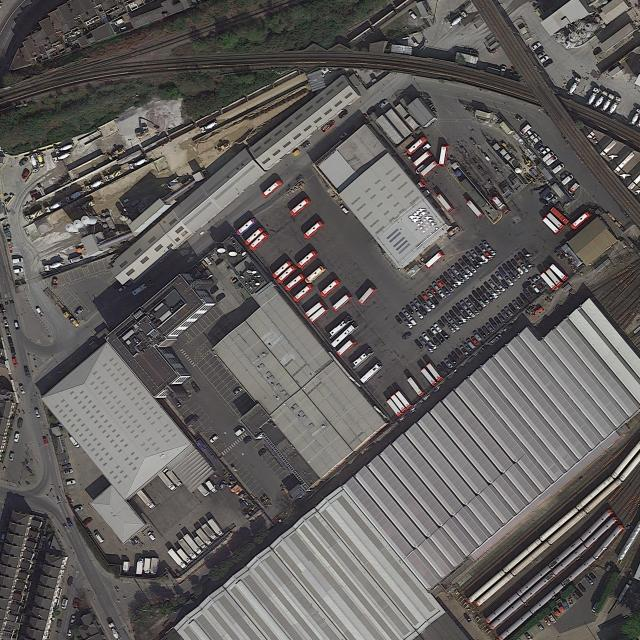large-vehicle: (43, 287, 72, 319), (330, 321, 359, 349), (325, 314, 354, 340), (349, 346, 375, 371), (359, 361, 384, 385), (302, 218, 326, 241), (271, 258, 294, 281), (243, 225, 267, 247), (289, 196, 313, 218), (296, 248, 320, 270), (405, 135, 429, 157), (569, 209, 593, 231), (319, 277, 342, 299), (261, 178, 284, 200), (177, 538, 199, 561), (183, 532, 204, 556), (357, 284, 378, 307), (292, 283, 315, 304), (235, 216, 258, 237), (304, 264, 327, 285), (283, 272, 306, 293), (331, 292, 353, 313), (335, 337, 357, 358), (248, 231, 270, 252), (276, 264, 298, 285), (167, 548, 188, 570), (549, 206, 571, 227), (549, 262, 570, 283), (136, 488, 156, 510), (492, 194, 512, 216), (466, 198, 486, 220), (407, 375, 426, 398), (424, 250, 445, 270), (412, 149, 433, 169), (544, 267, 564, 288), (541, 216, 562, 236), (308, 305, 330, 324), (419, 366, 438, 388), (425, 361, 444, 383), (304, 300, 326, 319), (436, 192, 455, 214), (539, 272, 559, 292), (394, 389, 413, 410), (158, 471, 177, 492), (419, 159, 439, 178), (195, 527, 214, 547), (448, 10, 468, 29), (386, 397, 404, 418), (207, 517, 225, 538), (592, 89, 610, 110), (165, 469, 184, 488), (546, 212, 565, 231), (390, 393, 408, 413), (201, 522, 219, 542), (599, 93, 616, 114), (566, 75, 582, 97), (128, 156, 150, 171), (606, 96, 622, 116), (585, 86, 600, 107), (128, 283, 147, 299), (107, 621, 123, 640), (199, 120, 219, 135), (104, 168, 124, 183), (85, 178, 105, 193), (65, 189, 85, 204), (44, 200, 65, 214), (176, 548, 193, 565), (43, 259, 65, 272), (25, 208, 45, 222), (76, 199, 96, 213), (54, 142, 75, 155), (52, 151, 72, 164), (29, 153, 40, 174), (439, 144, 449, 167), (193, 535, 208, 550), (488, 333, 503, 348), (35, 151, 46, 169), (205, 480, 218, 495), (68, 435, 81, 449), (150, 558, 159, 577), (93, 530, 105, 544), (68, 255, 84, 264), (68, 317, 80, 329), (166, 178, 179, 189), (136, 558, 144, 575), (143, 558, 151, 575), (584, 575, 595, 586), (463, 612, 473, 624), (574, 588, 584, 599), (577, 582, 587, 593), (147, 531, 156, 542), (536, 621, 545, 632), (123, 561, 130, 574), (61, 598, 68, 610), (589, 572, 597, 581)
small-vehicle: (185, 415, 200, 429), (527, 135, 542, 149), (551, 162, 565, 175), (545, 154, 559, 167), (541, 150, 555, 163), (539, 186, 552, 199), (567, 182, 580, 195), (561, 173, 574, 186), (519, 123, 532, 136), (525, 132, 538, 144), (472, 330, 484, 343), (337, 108, 349, 120), (128, 198, 141, 209), (538, 147, 551, 158), (443, 356, 454, 369), (190, 382, 201, 394), (442, 271, 453, 283), (415, 164, 427, 175), (171, 396, 182, 408), (82, 516, 94, 527), (440, 329, 451, 341), (461, 310, 472, 322), (465, 251, 476, 263), (521, 248, 532, 260), (450, 350, 461, 362), (466, 338, 477, 350), (460, 299, 470, 312), (339, 204, 350, 215), (378, 98, 389, 109), (450, 265, 461, 276), (422, 302, 433, 313), (421, 142, 432, 153), (235, 426, 246, 437), (500, 309, 511, 320), (511, 300, 522, 311), (522, 289, 533, 300), (464, 267, 475, 278), (522, 129, 533, 140), (439, 315, 450, 326), (463, 297, 474, 308), (461, 255, 472, 266), (504, 276, 515, 287), (591, 602, 601, 614), (337, 131, 349, 141), (445, 282, 455, 294), (449, 279, 459, 291), (415, 309, 425, 321), (458, 258, 468, 270), (519, 292, 529, 304), (549, 160, 561, 170), (542, 58, 554, 68), (488, 317, 498, 329), (477, 327, 487, 339), (433, 322, 443, 334), (451, 320, 461, 332), (421, 331, 431, 343), (517, 251, 527, 263), (520, 262, 530, 274), (447, 354, 457, 366), (454, 347, 464, 359), (470, 335, 480, 347), (489, 288, 499, 300), (215, 292, 226, 302), (300, 140, 311, 150), (420, 291, 430, 302), (431, 281, 441, 292), (437, 289, 447, 300), (442, 286, 452, 297), (426, 299, 436, 310), (414, 339, 424, 350), (419, 306, 429, 317), (404, 319, 414, 330), (401, 308, 411, 319), (408, 316, 418, 327), (409, 301, 419, 312), (454, 262, 464, 273), (460, 270, 470, 281), (559, 171, 570, 181), (493, 316, 503, 327), (504, 306, 514, 317), (507, 302, 517, 313), (515, 296, 525, 307), (521, 280, 532, 290), (527, 286, 537, 297), (533, 140, 544, 150), (531, 41, 542, 51), (534, 45, 545, 55), (539, 54, 550, 64), (485, 322, 495, 333), (481, 325, 491, 336), (447, 323, 457, 334), (444, 312, 454, 323), (451, 305, 461, 316), (455, 302, 465, 313), (466, 308, 476, 319), (471, 305, 481, 316), (436, 333, 446, 344), (432, 336, 442, 347), (480, 253, 490, 264), (472, 260, 482, 271), (475, 256, 485, 267), (487, 246, 497, 257), (428, 340, 438, 351), (474, 301, 484, 312), (471, 290, 481, 301), (524, 259, 534, 270), (436, 364, 446, 375), (440, 361, 450, 372), (459, 345, 469, 356), (463, 342, 473, 353), (512, 269, 522, 280), (481, 295, 491, 306), (485, 292, 495, 303), (494, 270, 504, 281), (497, 266, 507, 277), (501, 263, 511, 274), (508, 272, 518, 283), (401, 332, 413, 341), (499, 65, 507, 78), (408, 10, 418, 20), (209, 285, 219, 295), (435, 278, 445, 288), (394, 315, 404, 325), (74, 307, 84, 317), (35, 307, 45, 317), (19, 157, 29, 167), (531, 274, 541, 284), (531, 284, 541, 294), (454, 317, 464, 327), (458, 314, 468, 324), (473, 246, 483, 256), (484, 251, 494, 261), (478, 243, 488, 253), (467, 294, 477, 304), (475, 287, 485, 297), (483, 281, 493, 291), (490, 274, 500, 284), (505, 260, 515, 270), (232, 387, 243, 396), (425, 288, 434, 299), (431, 296, 440, 307), (447, 268, 456, 279), (453, 276, 462, 287), (457, 273, 466, 284), (405, 304, 414, 315), (535, 280, 544, 291), (366, 107, 377, 116), (448, 309, 457, 320), (469, 264, 478, 275), (426, 328, 435, 339), (497, 282, 506, 293), (501, 279, 510, 290), (114, 17, 125, 26), (117, 25, 129, 33), (69, 614, 77, 626), (428, 285, 437, 295), (434, 292, 443, 302), (439, 275, 448, 285), (413, 298, 422, 308), (503, 325, 513, 334), (21, 170, 30, 180), (209, 435, 219, 444), (218, 480, 227, 490), (258, 448, 268, 457), (545, 192, 554, 202), (539, 197, 549, 206), (497, 313, 506, 323), (536, 145, 546, 154), (437, 319, 446, 329), (430, 326, 439, 336), (470, 249, 479, 259), (425, 344, 434, 354), (418, 336, 427, 346), (516, 266, 525, 276), (493, 286, 502, 296), (24, 366, 31, 378), (12, 257, 24, 264), (34, 407, 41, 419), (73, 597, 80, 609), (417, 295, 426, 304), (550, 195, 559, 204), (482, 240, 491, 249), (510, 258, 519, 267), (478, 299, 487, 308), (243, 436, 253, 444), (74, 505, 84, 513), (66, 518, 74, 528), (480, 285, 488, 295), (488, 279, 496, 289), (5, 327, 12, 338), (61, 463, 72, 470), (63, 468, 74, 475), (399, 312, 407, 321), (17, 418, 23, 430), (118, 285, 127, 293), (539, 278, 547, 287), (593, 48, 602, 56), (537, 51, 546, 59), (513, 254, 521, 263), (10, 347, 17, 357), (12, 357, 19, 367), (42, 436, 49, 446), (56, 620, 63, 630), (66, 479, 76, 486), (67, 576, 74, 586), (14, 320, 20, 331), (14, 432, 20, 443), (360, 114, 368, 122), (3, 318, 9, 328), (8, 338, 14, 348), (19, 385, 25, 395), (14, 268, 24, 274), (67, 627, 73, 637), (9, 452, 15, 462)
storage-tank: (81, 215, 98, 225), (73, 219, 89, 229), (65, 223, 80, 233), (568, 32, 581, 42), (585, 22, 597, 32), (574, 21, 587, 30), (563, 41, 577, 49), (556, 34, 567, 44), (578, 30, 591, 38), (515, 168, 522, 174), (594, 17, 600, 23), (601, 24, 606, 29), (101, 218, 106, 222), (103, 224, 108, 228), (599, 20, 604, 24), (106, 211, 110, 215), (102, 213, 106, 216)
